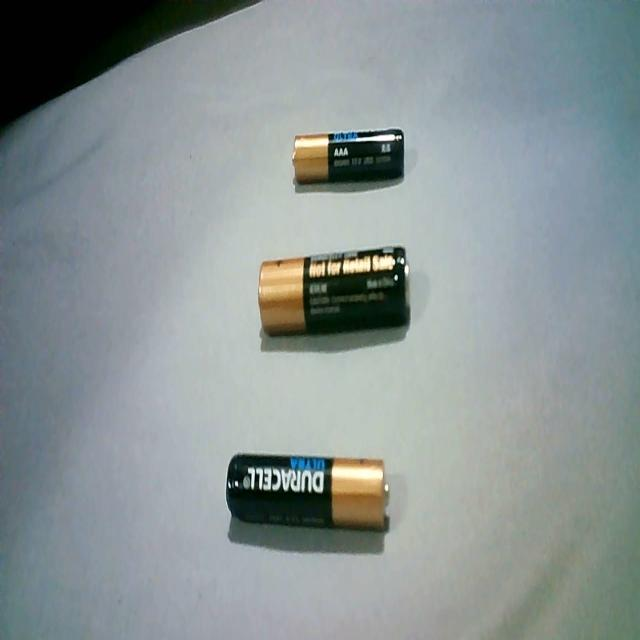AA: (252, 236, 414, 339)
AAA: (222, 434, 392, 541), (286, 118, 410, 194)
